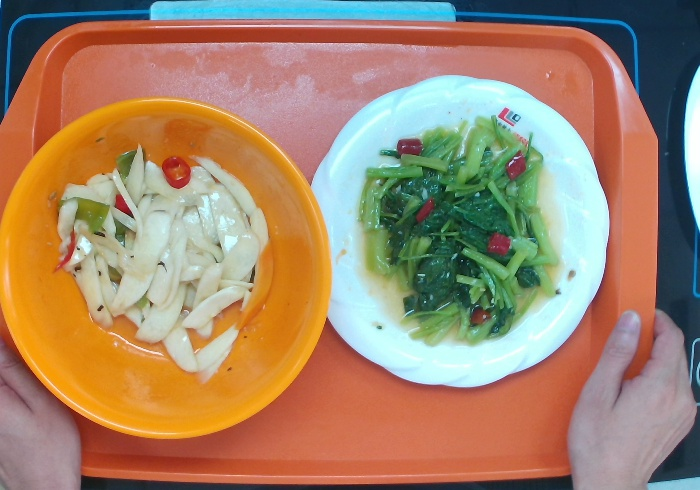ZNLD-Hua_Bian_Wan: (307, 70, 611, 390)
ZNLD-Ju_Se_Tang_Wan: (1, 94, 335, 444)
